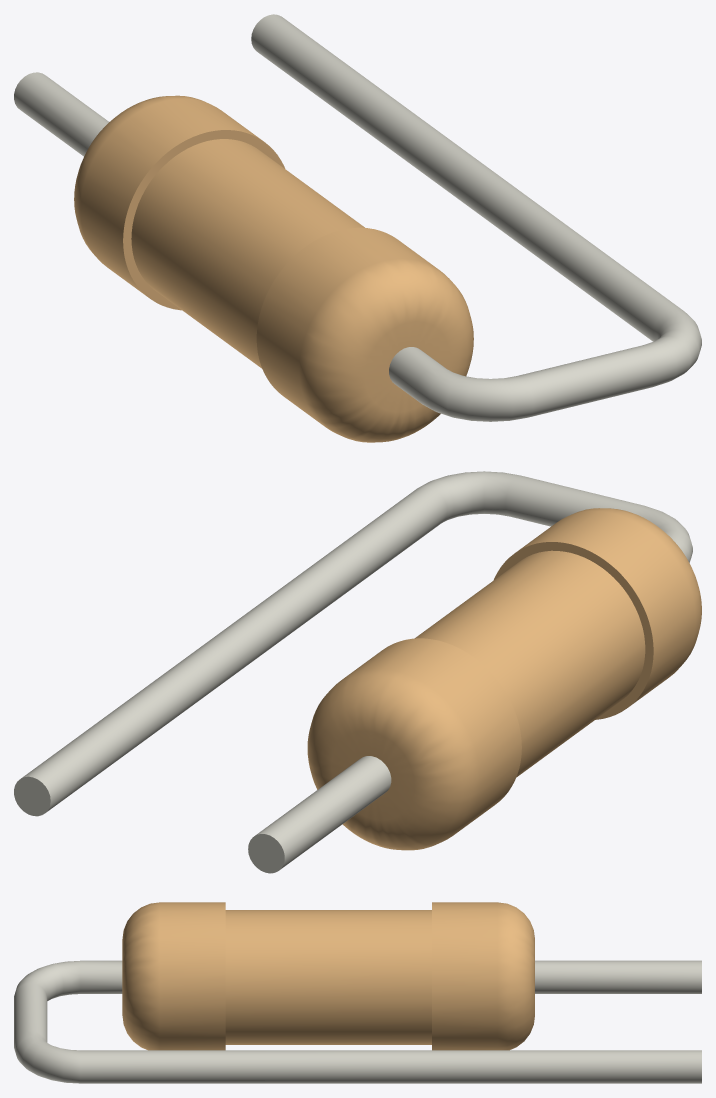
Rendered from r-axial-din0411-l9.9-d3.6-p5.08-v.glb.
The picture shows the model from 3 angles, top to bottom: view 1: azimuth 30°, elevation 25°; view 2: azimuth 150°, elevation 25°; view 3: azimuth 270°, elevation 25°; orthographic projection. The views are drawn at different scales.
Parts seen in each view (by area): view 1: RES-THT-01, PIN-01; view 2: RES-THT-01, PIN-01; view 3: RES-THT-01, PIN-01.
Boxes of the visible parts, bbox=[...] form: RES-THT-01: bbox=[74, 95, 473, 442]; PIN-01: bbox=[14, 14, 701, 421]; RES-THT-01: bbox=[307, 508, 701, 850]; PIN-01: bbox=[14, 471, 692, 873]; RES-THT-01: bbox=[122, 902, 534, 1050]; PIN-01: bbox=[14, 960, 701, 1083].
Bounding box in the file's own units: 7.28 × 3.6 × 16.5.
